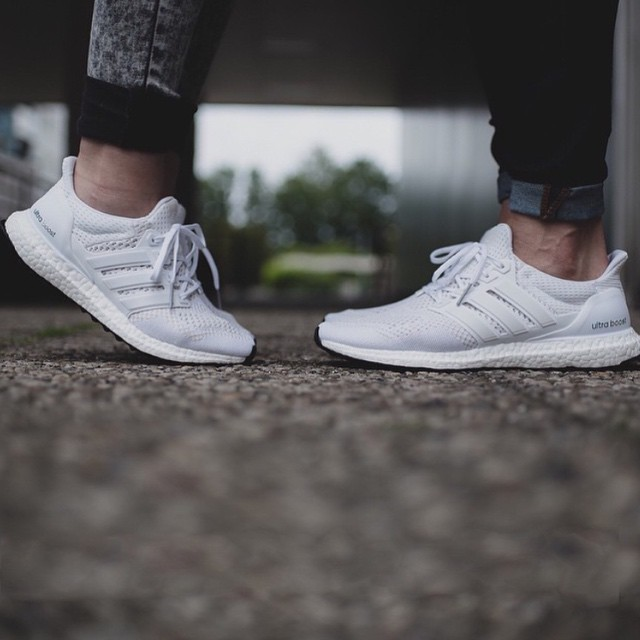sneaker: (302, 201, 637, 397)
